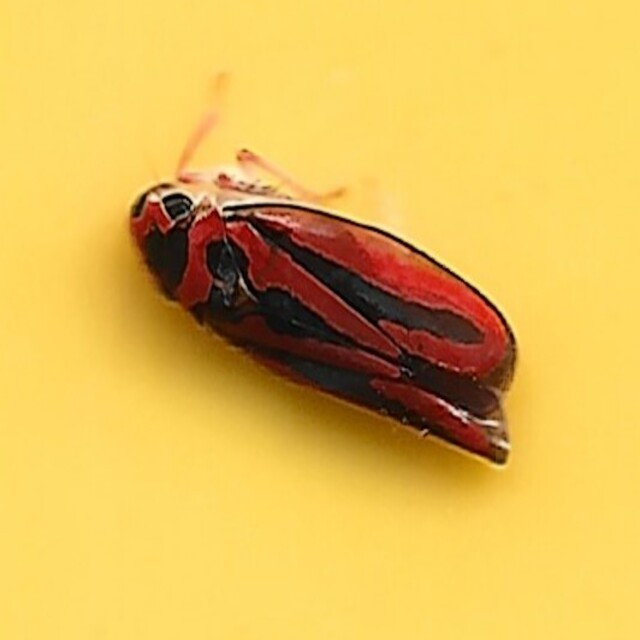Hemiptera: (120, 173, 520, 467)
